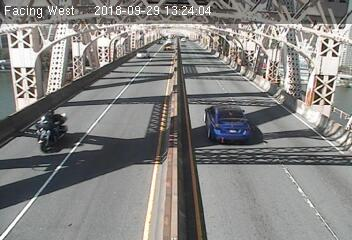car: (202, 101, 256, 146), (131, 47, 149, 60), (161, 42, 174, 51)
